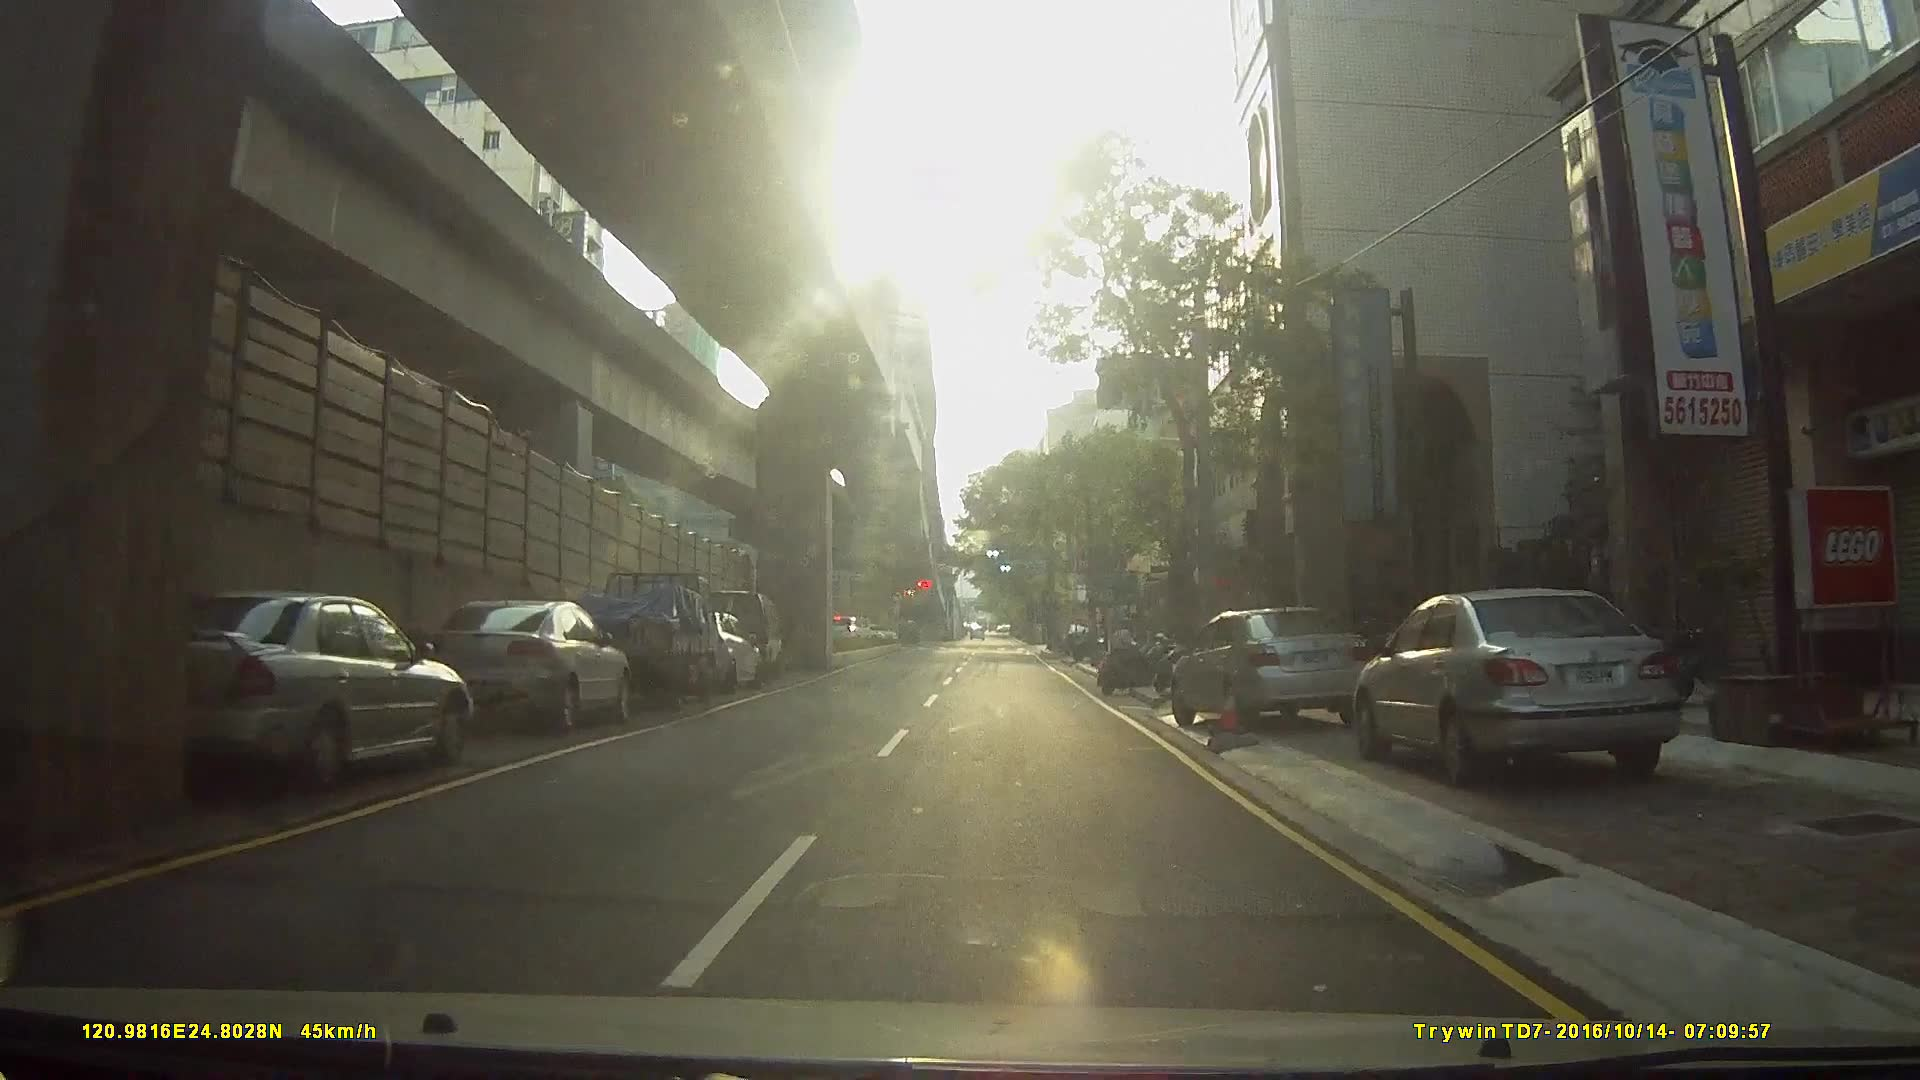rider: (1099, 625, 1170, 703)
vehicle: (88, 593, 481, 812), (1363, 585, 1712, 795), (390, 603, 635, 746), (1172, 602, 1383, 736), (558, 567, 715, 714), (821, 614, 872, 650)
